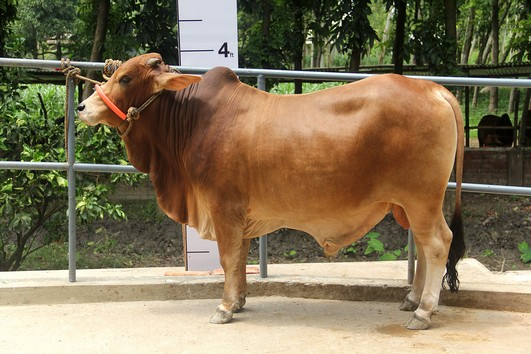cow: (73, 41, 473, 333)
